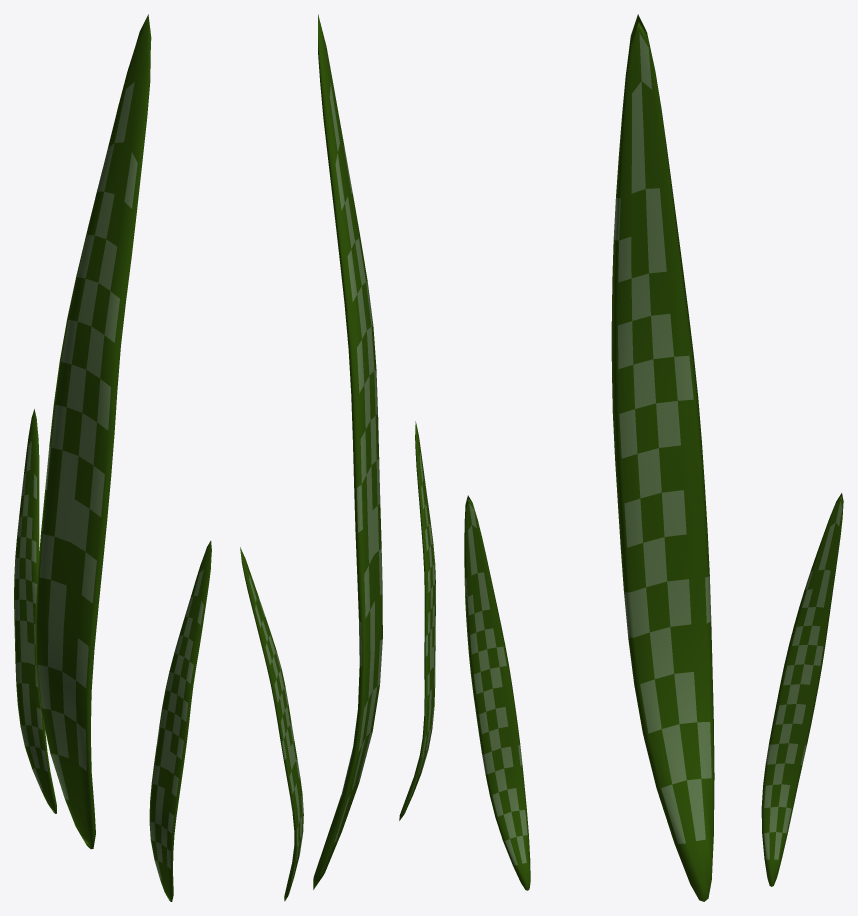
The model's file is espadas.glb.
3 views of the same model, side by side, from view 1: azimuth 30°, elevation 25°; view 2: azimuth 150°, elevation 25°; view 3: azimuth 270°, elevation 25° (orthographic). The views are drawn at different scales.
Visible parts, largest first — view 1: Cube.015, Cube.002, Cube.001; view 2: Cube.015, Cube.001, Cube.002; view 3: Cube.015, Cube.002, Cube.001.
Part boxes in pixels (x1,y1,x2,y2): Cube.015: [35, 14, 151, 849]; Cube.002: [149, 540, 211, 901]; Cube.001: [14, 409, 56, 813]; Cube.015: [313, 14, 382, 889]; Cube.001: [240, 547, 303, 901]; Cube.002: [399, 421, 435, 820]; Cube.015: [611, 14, 714, 901]; Cube.002: [464, 495, 530, 890]; Cube.001: [761, 493, 843, 886].
Bounding box in the file's own units: 32.35 × 330 × 126.
